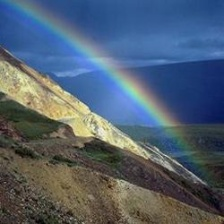neutral: (2, 2, 221, 221)
